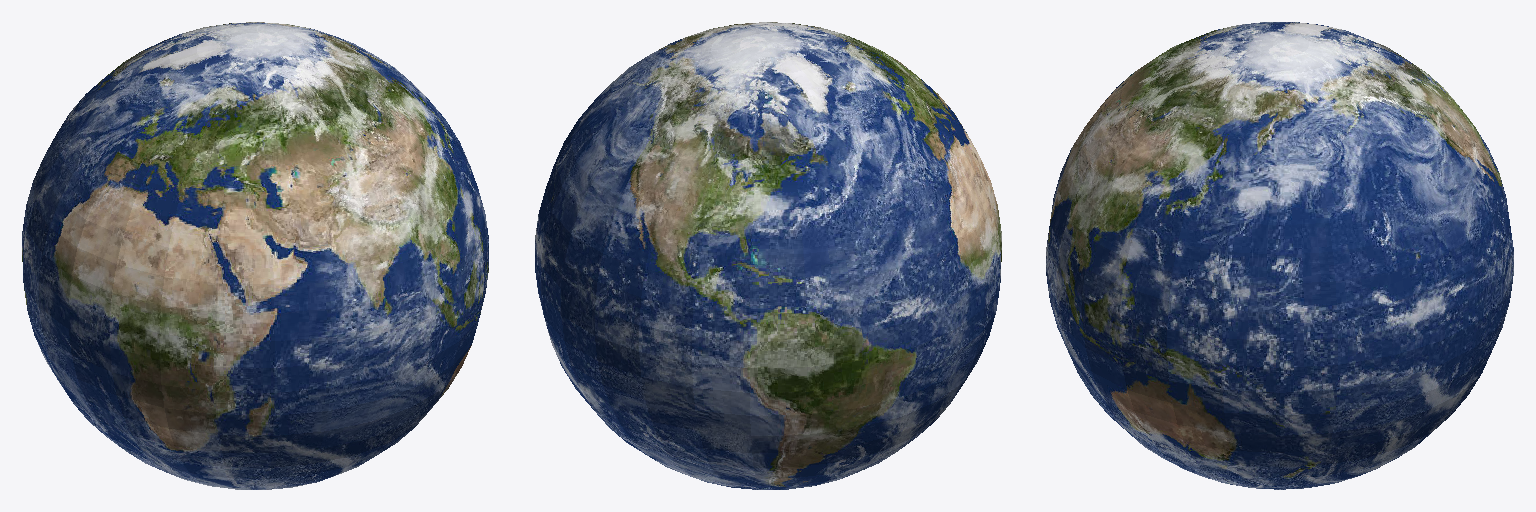
3 views of the same model, side by side, from view 1: azimuth 30°, elevation 25°; view 2: azimuth 150°, elevation 25°; view 3: azimuth 270°, elevation 25° (orthographic).
Visible parts, largest first — view 1: earth; view 2: earth; view 3: earth.
Boxes of the visible parts, x1=… form: earth: x1=22, y1=22, x2=488, y2=489; earth: x1=535, y1=22, x2=1001, y2=489; earth: x1=1046, y1=22, x2=1513, y2=489.
Bounding box in the file's own units: 38.71 × 38.94 × 38.78.
1 materials, 1 textured.